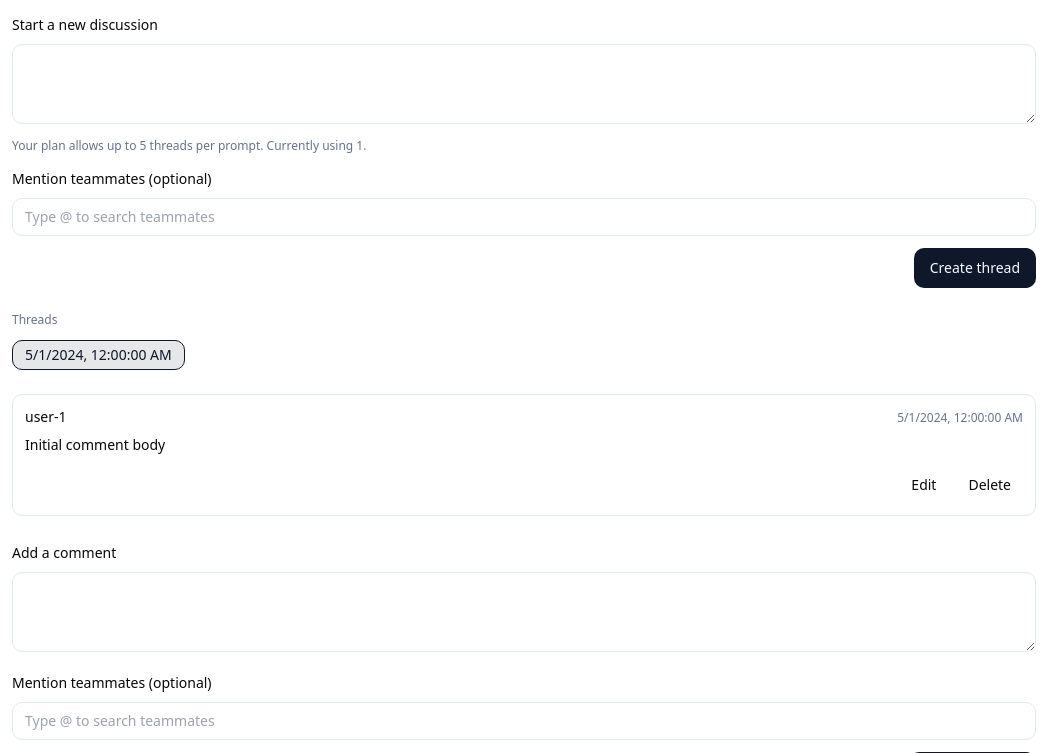
it: PromptCommentsPanel - comment editing › shows an error and restores the comment when the update fails
Expected: the text "Initial comment body" is shown, [25,435,165,454]
Click the button "Edit". click: (924, 485)
box: [899,467,948,503]
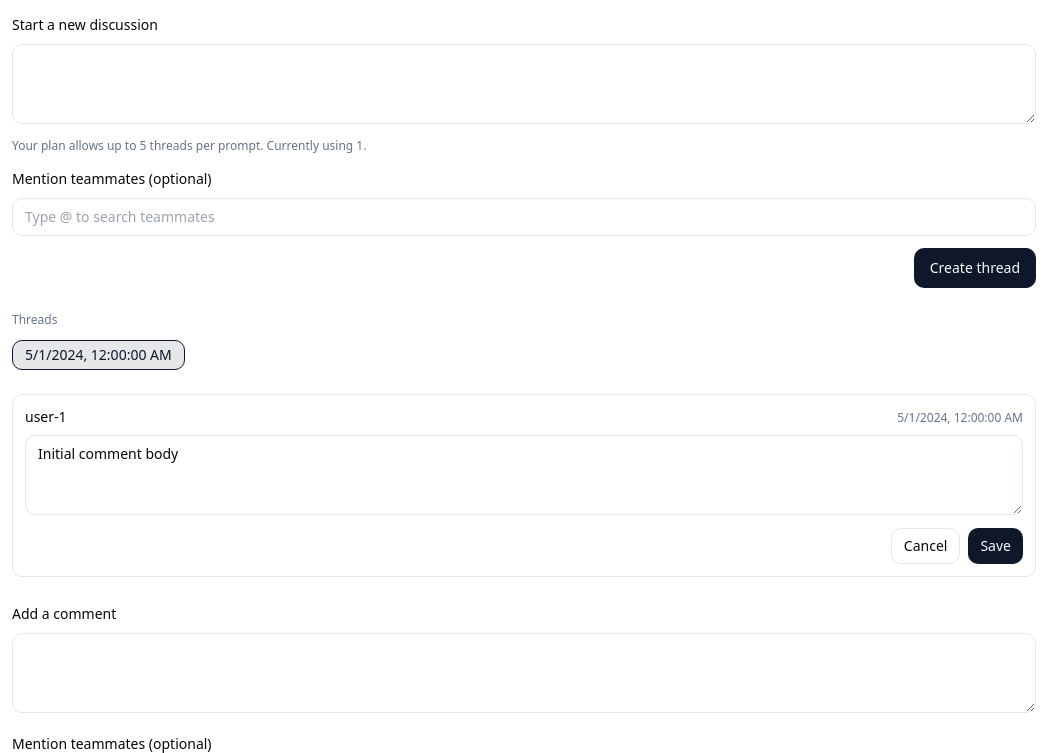
Replace the text in the text box showing "Initial comment body" with "Unauthorized edit". click: (524, 475)
box: [25,435,1023,515]
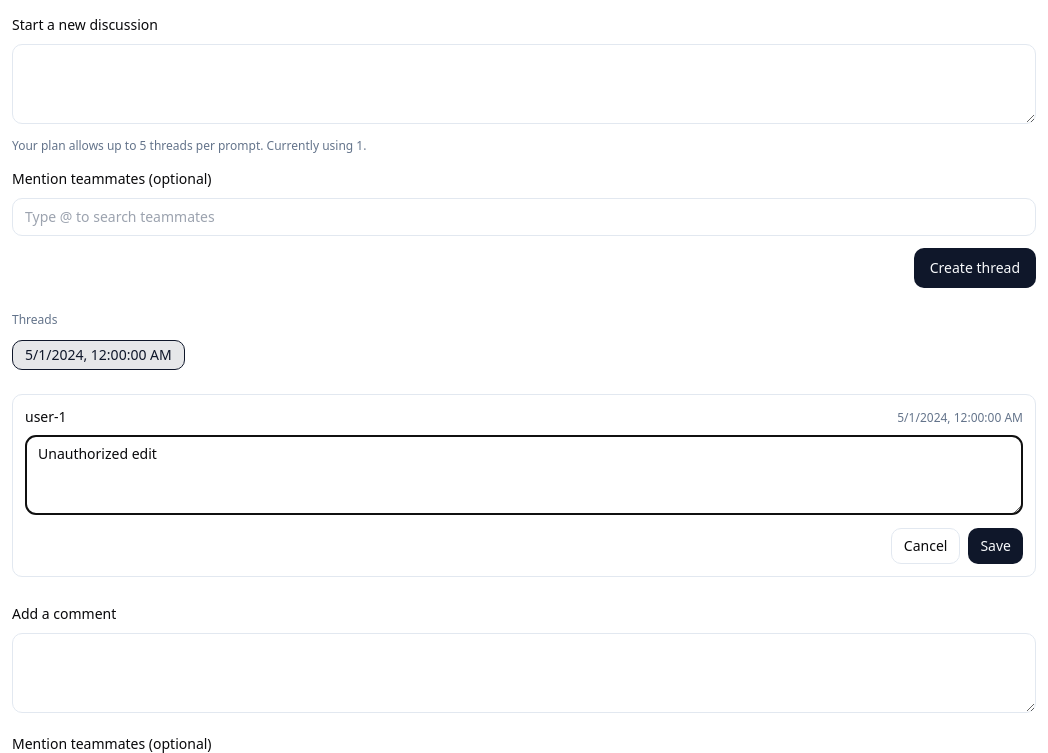
Click the button "Save". click: (996, 546)
box: [968,528,1023,564]
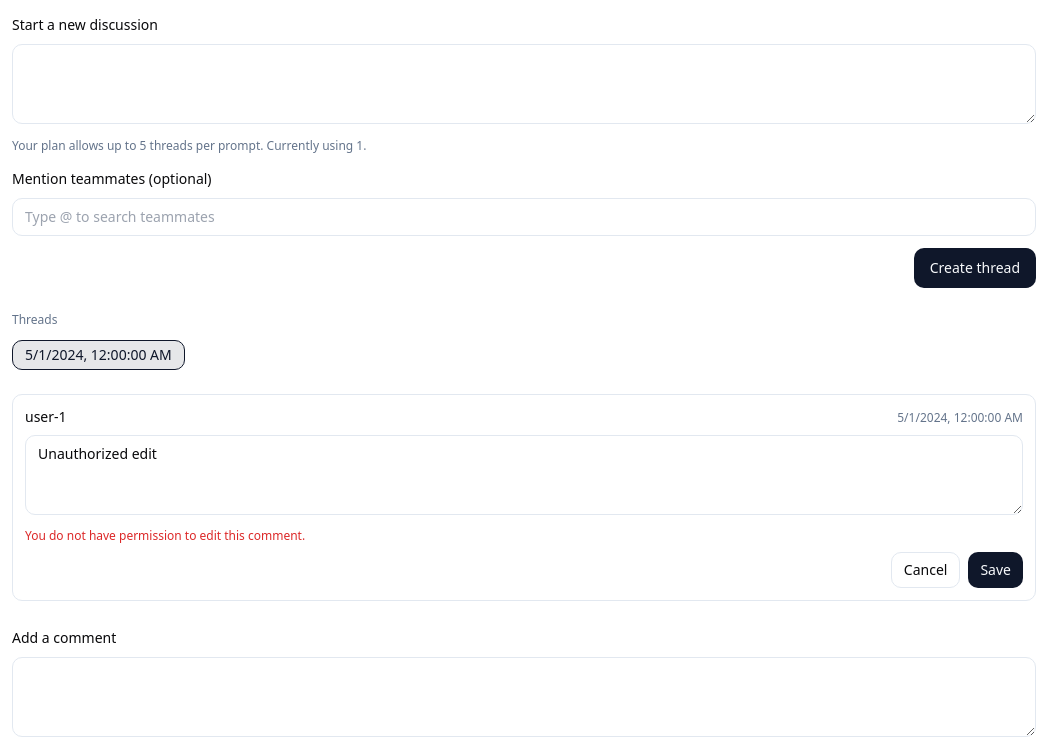
Expected: the text "You do not have permission to edit this comment." is shown, [25,527,305,544]
